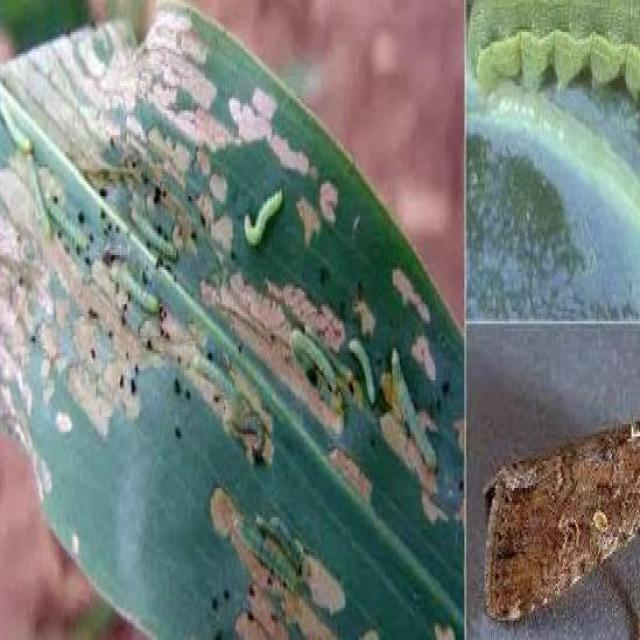BeetArmyWorm-Larva-: (388, 335, 444, 481), (280, 320, 340, 409), (123, 197, 185, 272), (112, 257, 164, 322), (240, 178, 284, 252), (45, 193, 91, 253), (345, 332, 378, 413), (0, 84, 35, 156), (229, 400, 266, 463)
